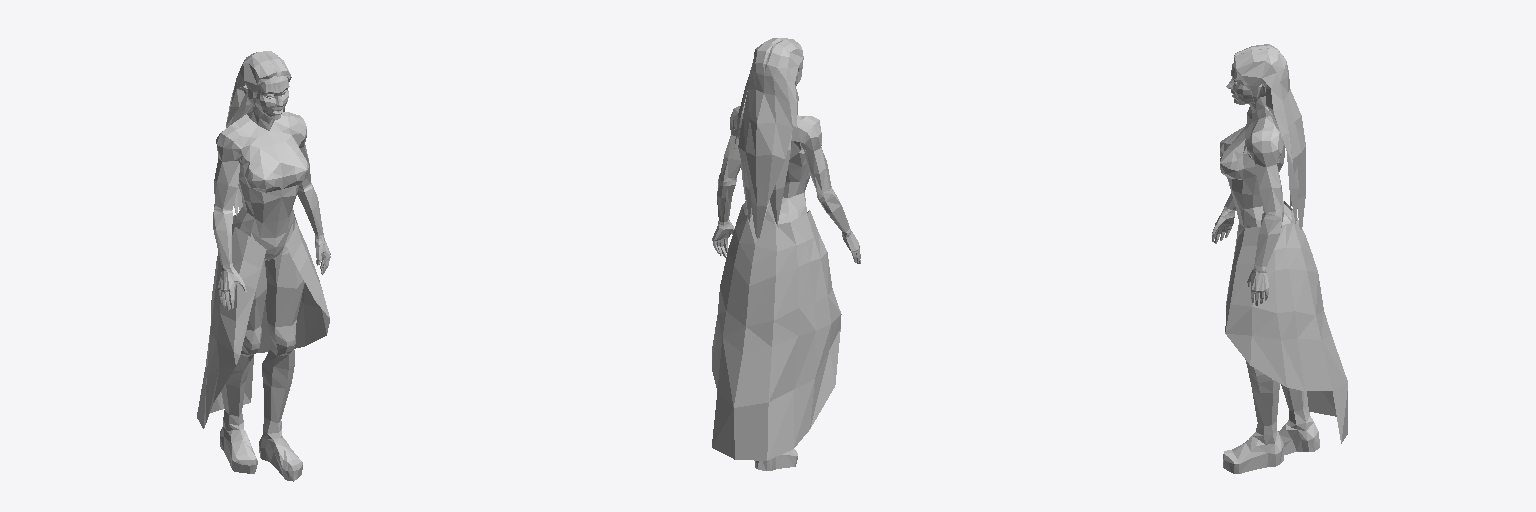
Rendered from running_002.obj.
The picture shows the model from 3 angles: view 1: azimuth 30°, elevation 25°; view 2: azimuth 150°, elevation 25°; view 3: azimuth 270°, elevation 25°; orthographic projection.
Parts seen in each view (by area): view 1: Plane.001_Plane.007, Plane.003_Plane.008, capelli.001_Plane.006; view 2: Plane.003_Plane.008, capelli.001_Plane.006, Plane.001_Plane.007; view 3: Plane.003_Plane.008, Plane.001_Plane.007, capelli.001_Plane.006.
Boxes of the visible parts, <box> form: Plane.001_Plane.007: <box>213,59,330,481</box>; Plane.003_Plane.008: <box>197,214,329,428</box>; capelli.001_Plane.006: <box>226,51,291,215</box>; Plane.003_Plane.008: <box>712,201,841,460</box>; capelli.001_Plane.006: <box>734,38,803,238</box>; Plane.001_Plane.007: <box>712,40,860,470</box>; Plane.003_Plane.008: <box>1225,201,1347,443</box>; Plane.001_Plane.007: <box>1212,51,1319,473</box>; capelli.001_Plane.006: <box>1234,44,1305,229</box>.
Size of the model in its own units: 1.77 by 5.59 by 1.66.